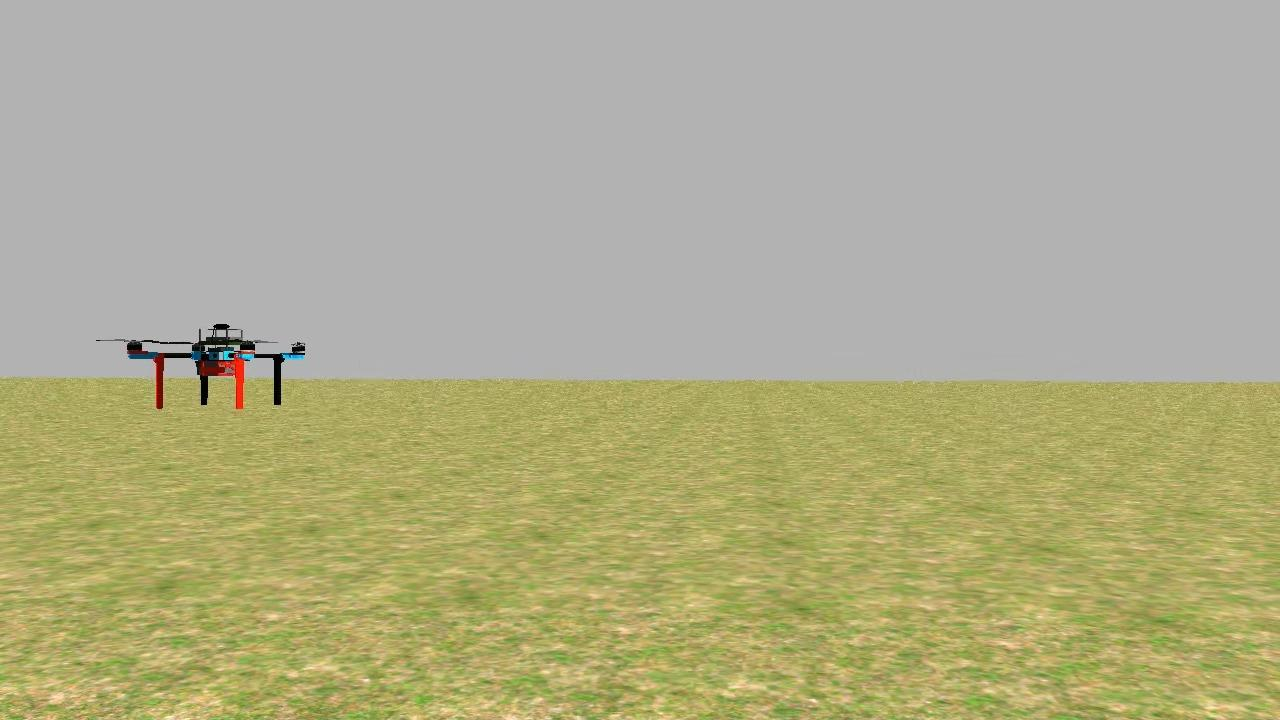UAV: (120, 312, 310, 427)
